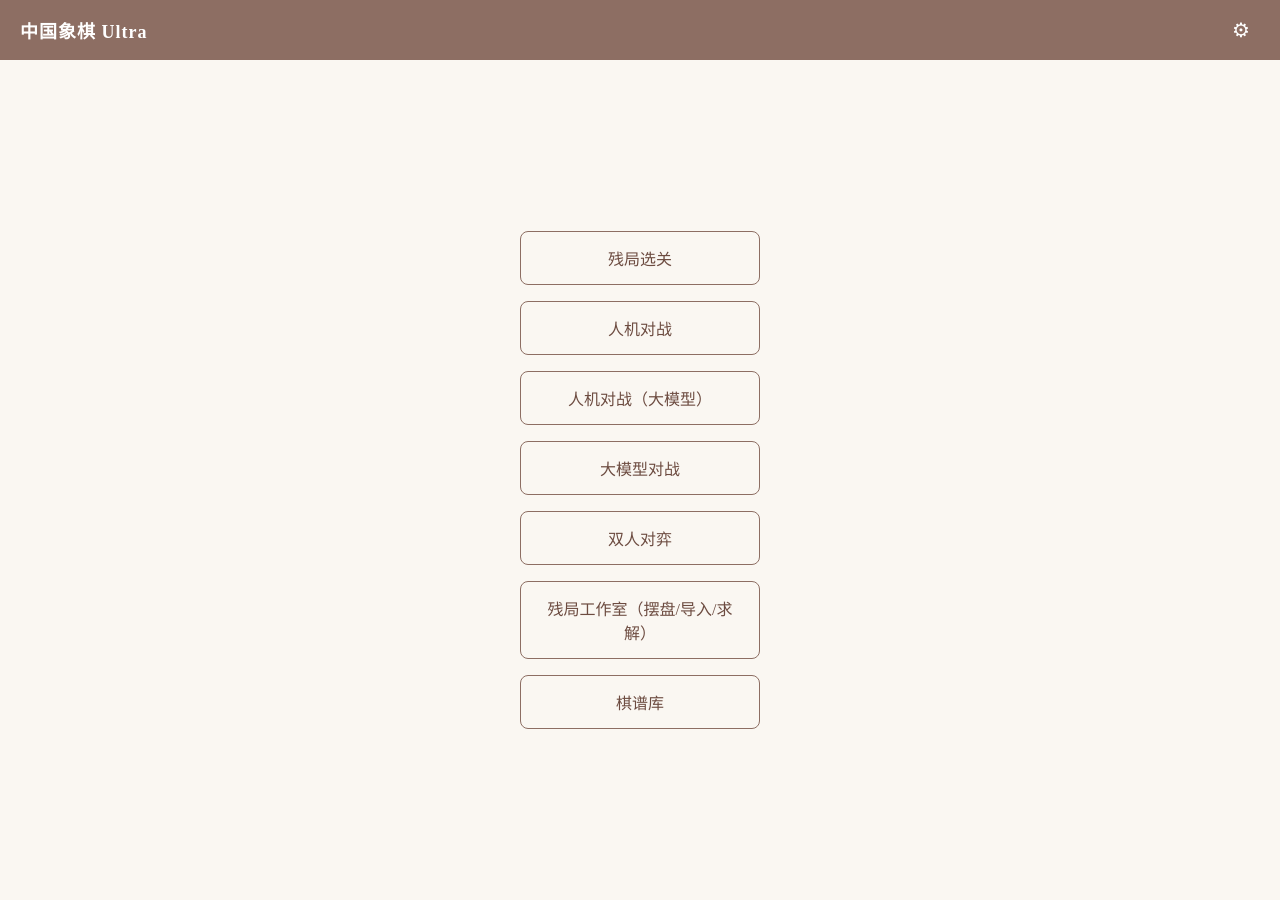
Test: 主页导航（08 §1） › 渲染 7 个入口 + 打开全局设置弹窗（每次打开重新读取）
The width and height of the screenshot is (1280, 900).
Expected: the button "残局选关" is shown, 520,231 -> 760,285
Expected: the button "人机对战" is shown, 520,301 -> 760,355
Click the button titled "全局设置". click: (1241, 30)
box: 1222,12 -> 1260,48
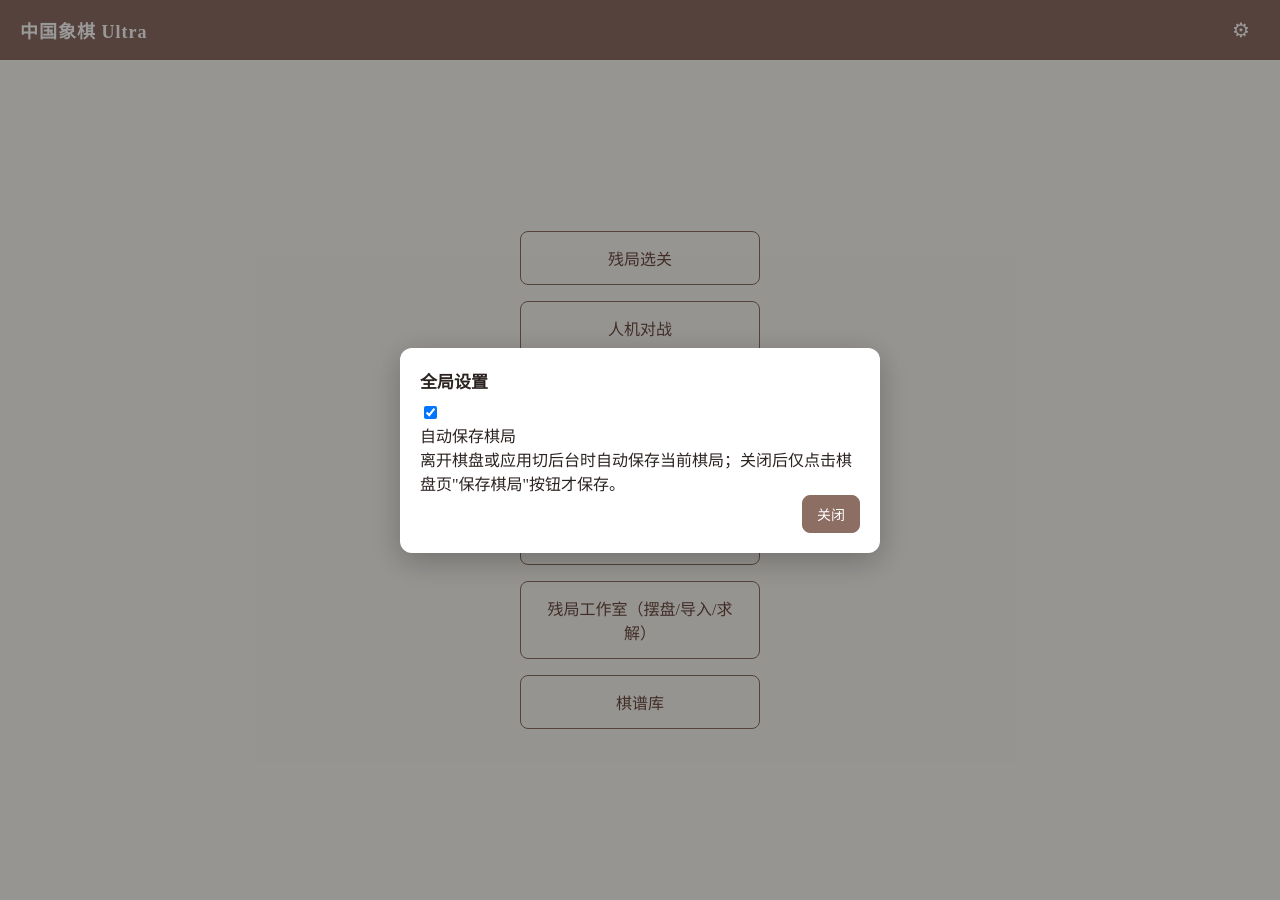
Now the element with test id "global-settings-dialog" is shown
